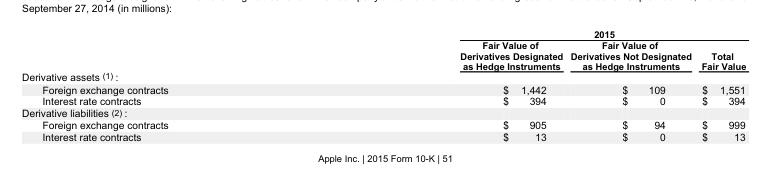table: (21, 28, 745, 142)
table column: (21, 28, 313, 142), (313, 28, 566, 142), (566, 28, 695, 142), (695, 28, 745, 142)
table column header: (21, 28, 745, 70)
table projected row header: (21, 70, 745, 82), (21, 106, 745, 118)
table row: (21, 39, 745, 70), (21, 70, 745, 82), (21, 82, 745, 94), (21, 94, 745, 106), (21, 106, 745, 118), (21, 118, 745, 130), (21, 130, 745, 142), (21, 28, 745, 39)
table spanning cell: (313, 28, 745, 39)
